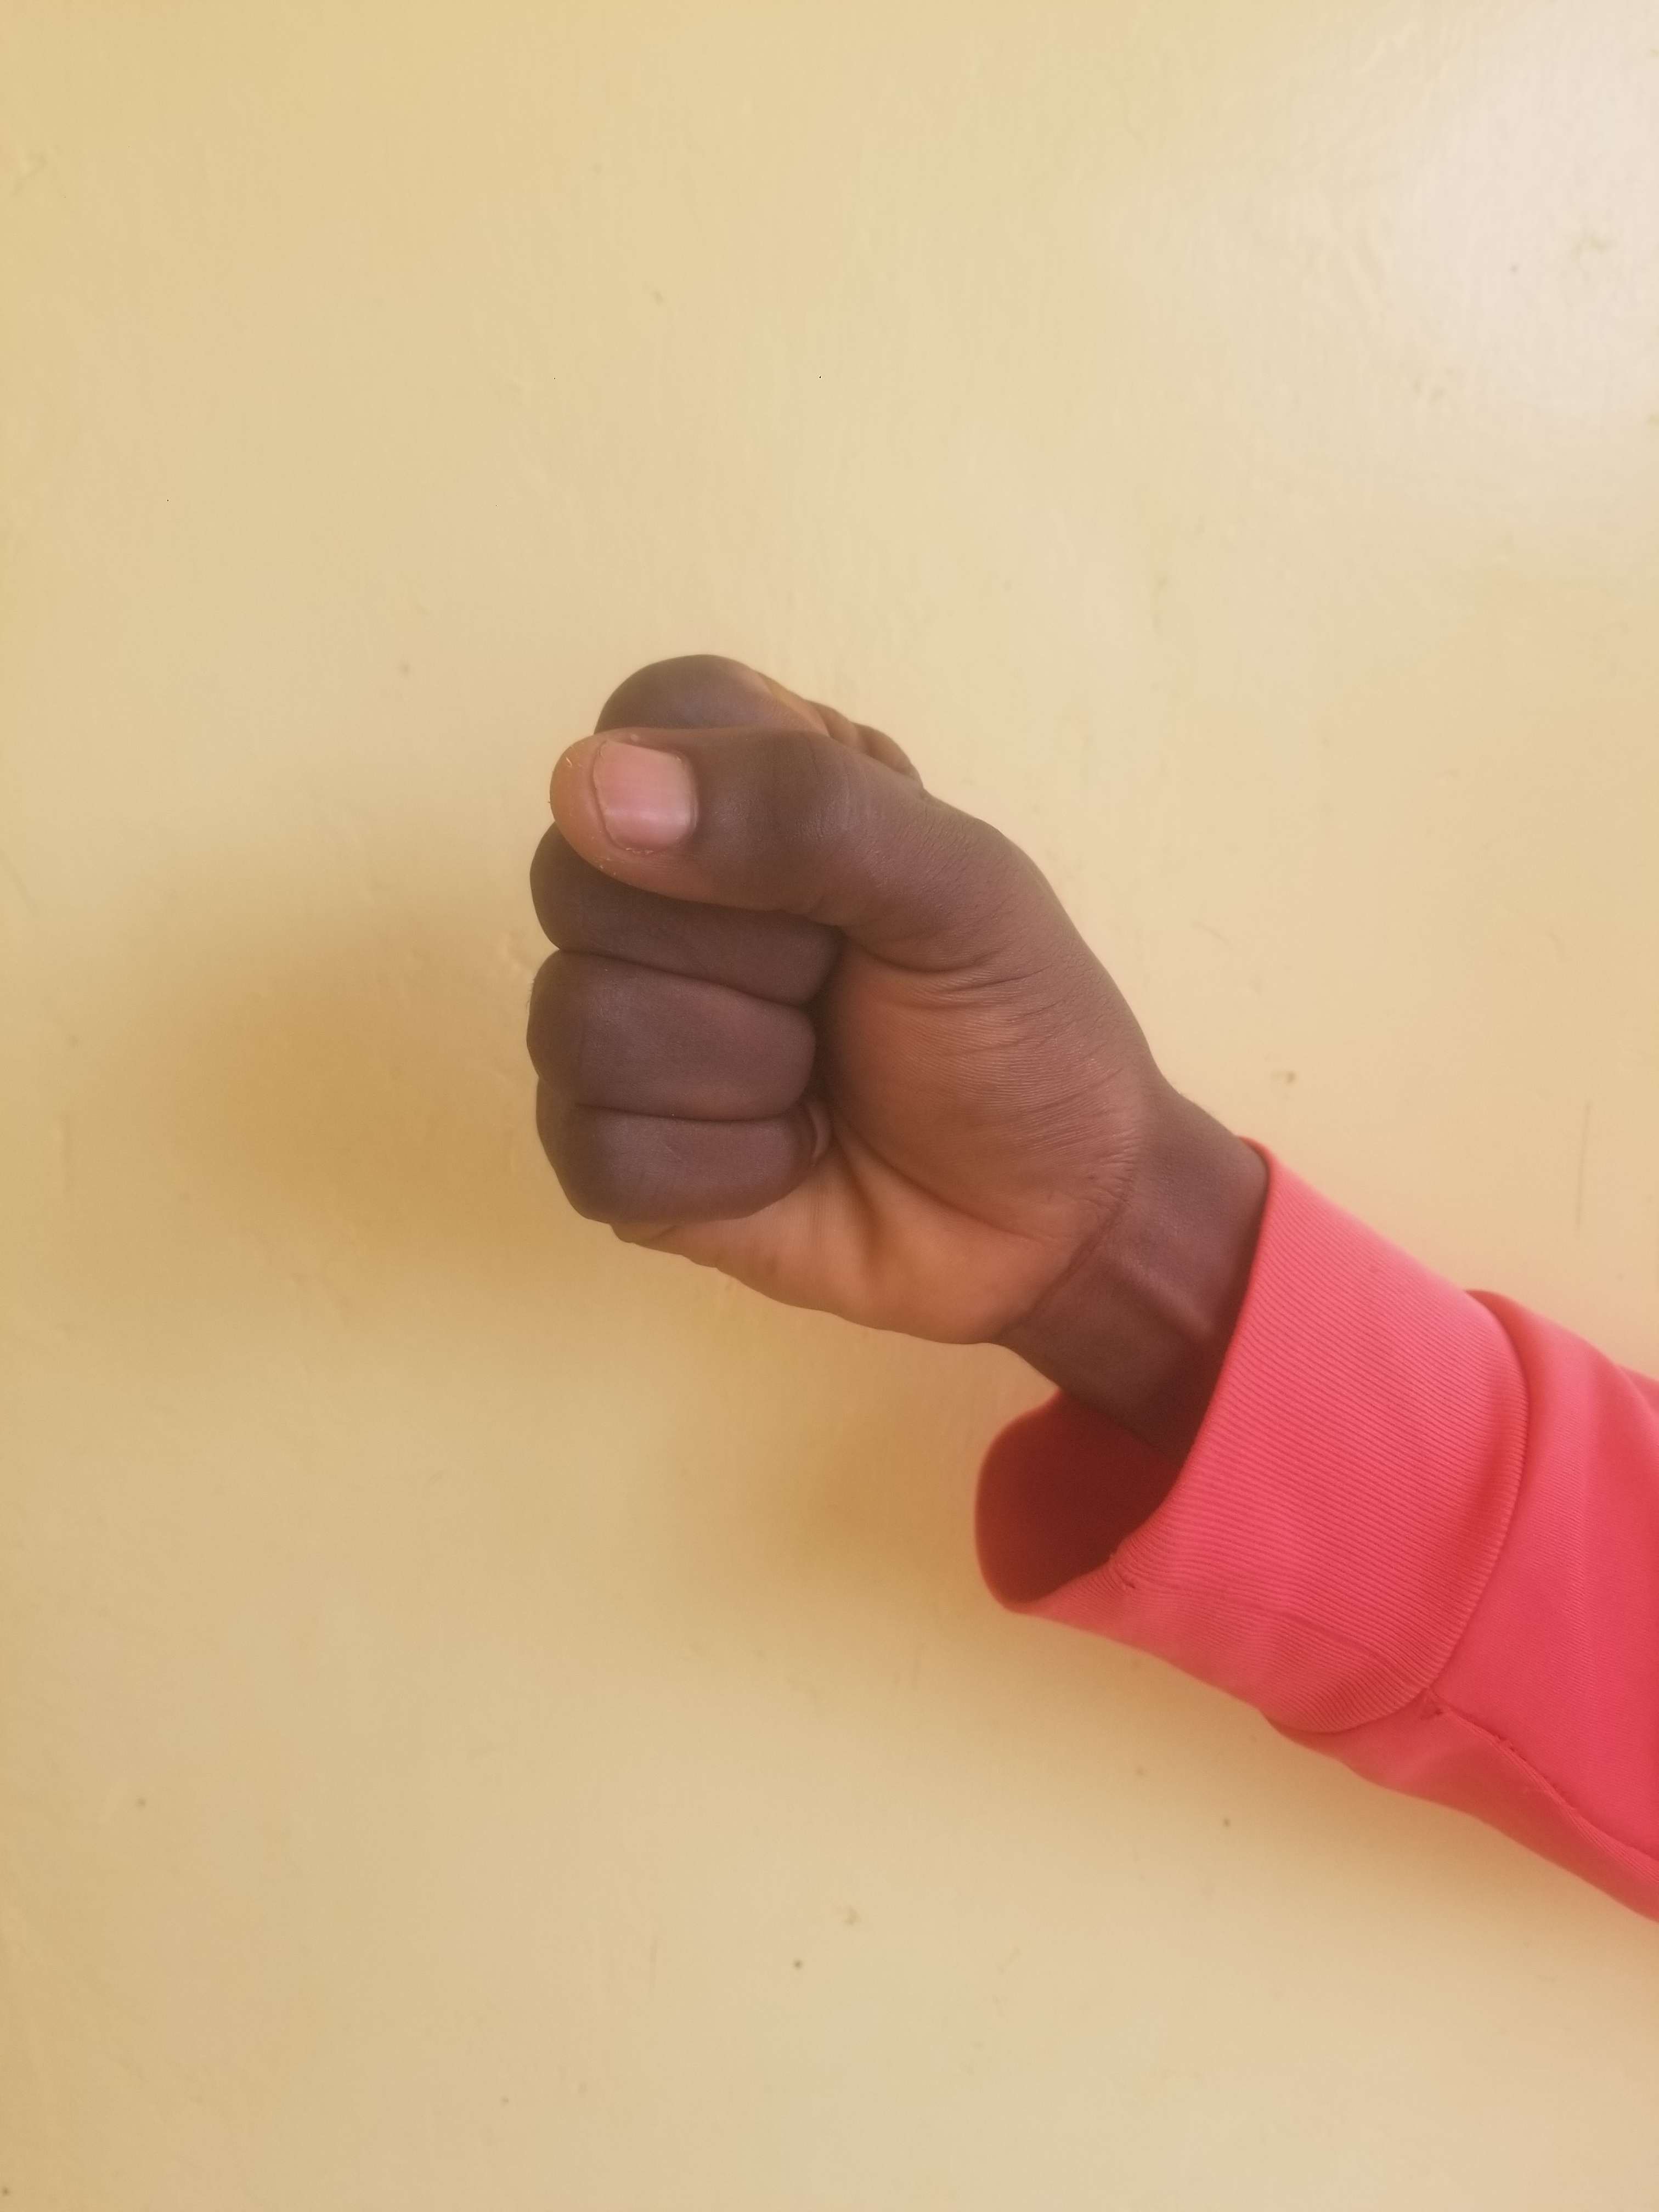fist: (429, 549, 1342, 1653)
